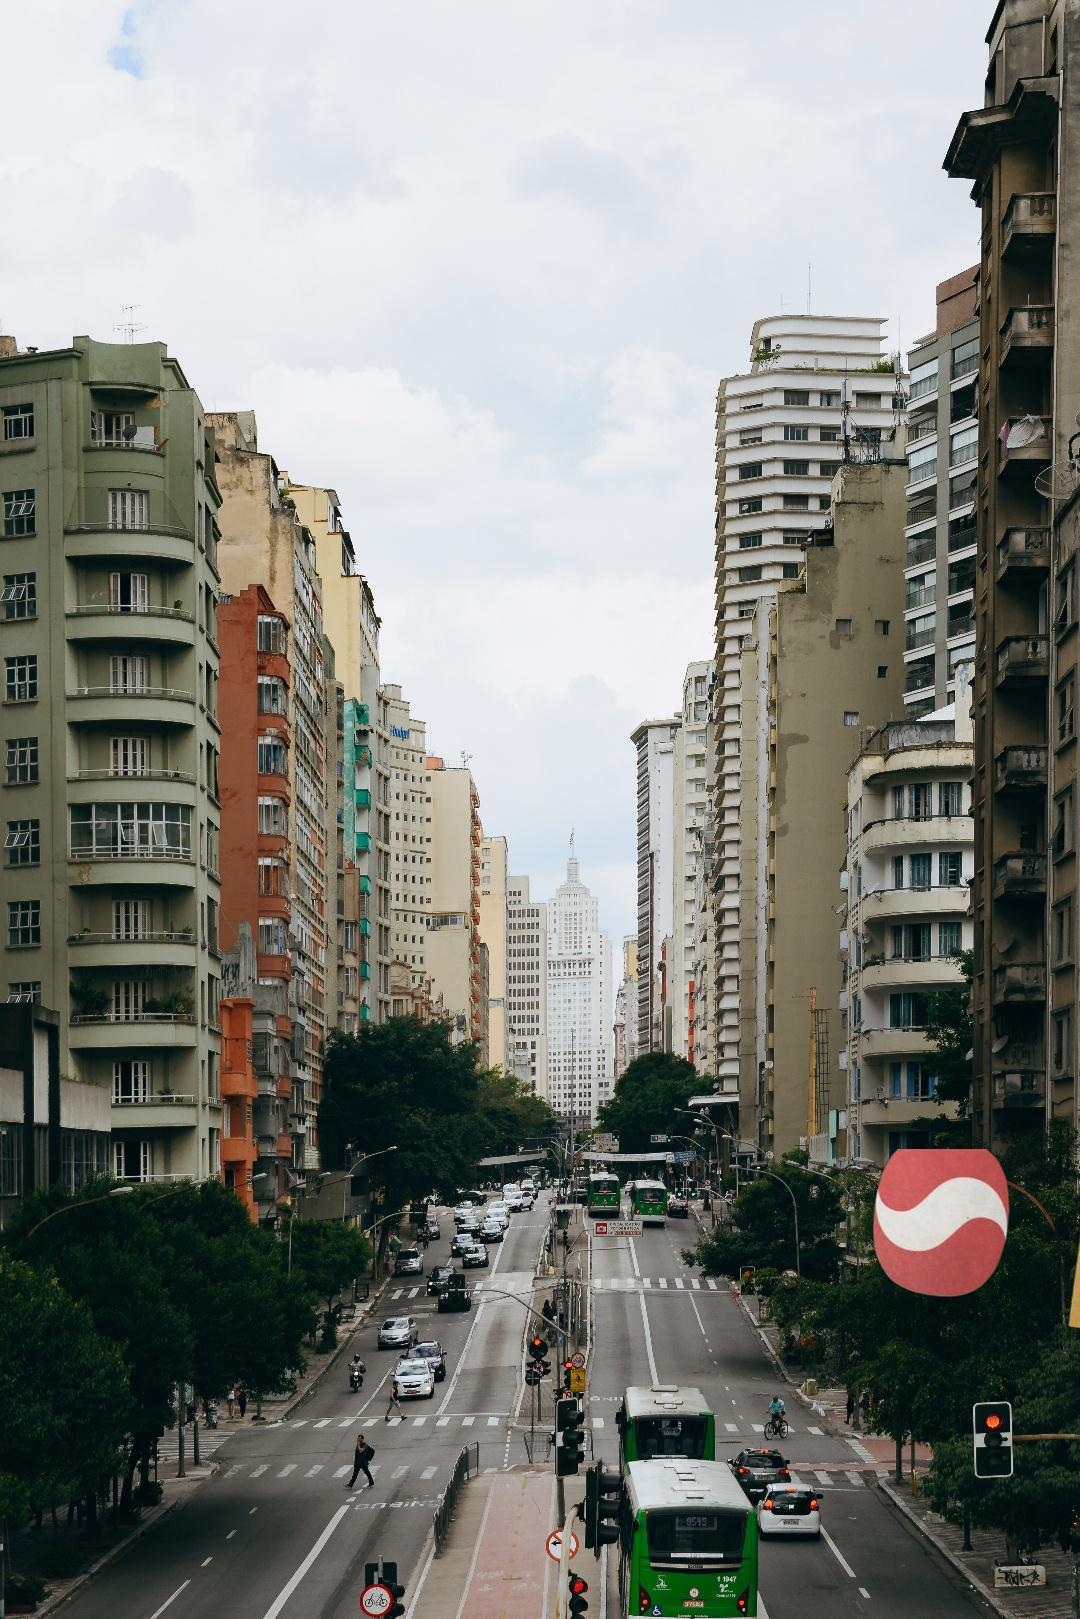paper: (837, 1149, 1080, 1391)
